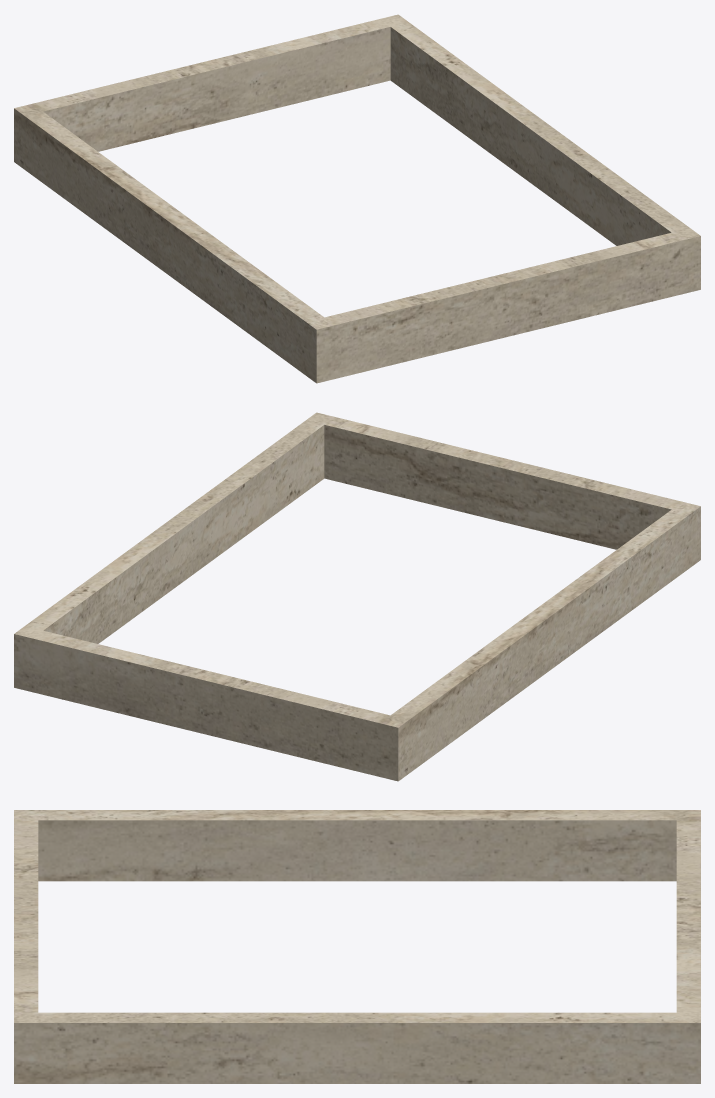
3 views of the same model, one above another, from view 1: azimuth 30°, elevation 25°; view 2: azimuth 150°, elevation 25°; view 3: azimuth 270°, elevation 25° (orthographic). The views are drawn at different scales.
Visible parts, largest first — view 1: Object_3; view 2: Object_3; view 3: Object_3.
Boxes of the visible parts, box(x1,y1,x2,y2) form: Object_3: box(14, 14, 700, 383); Object_3: box(14, 412, 700, 781); Object_3: box(14, 810, 700, 1083).
Size of the model in its own units: 0.374 by 0.05 by 0.51.
1 material, 1 textured.
